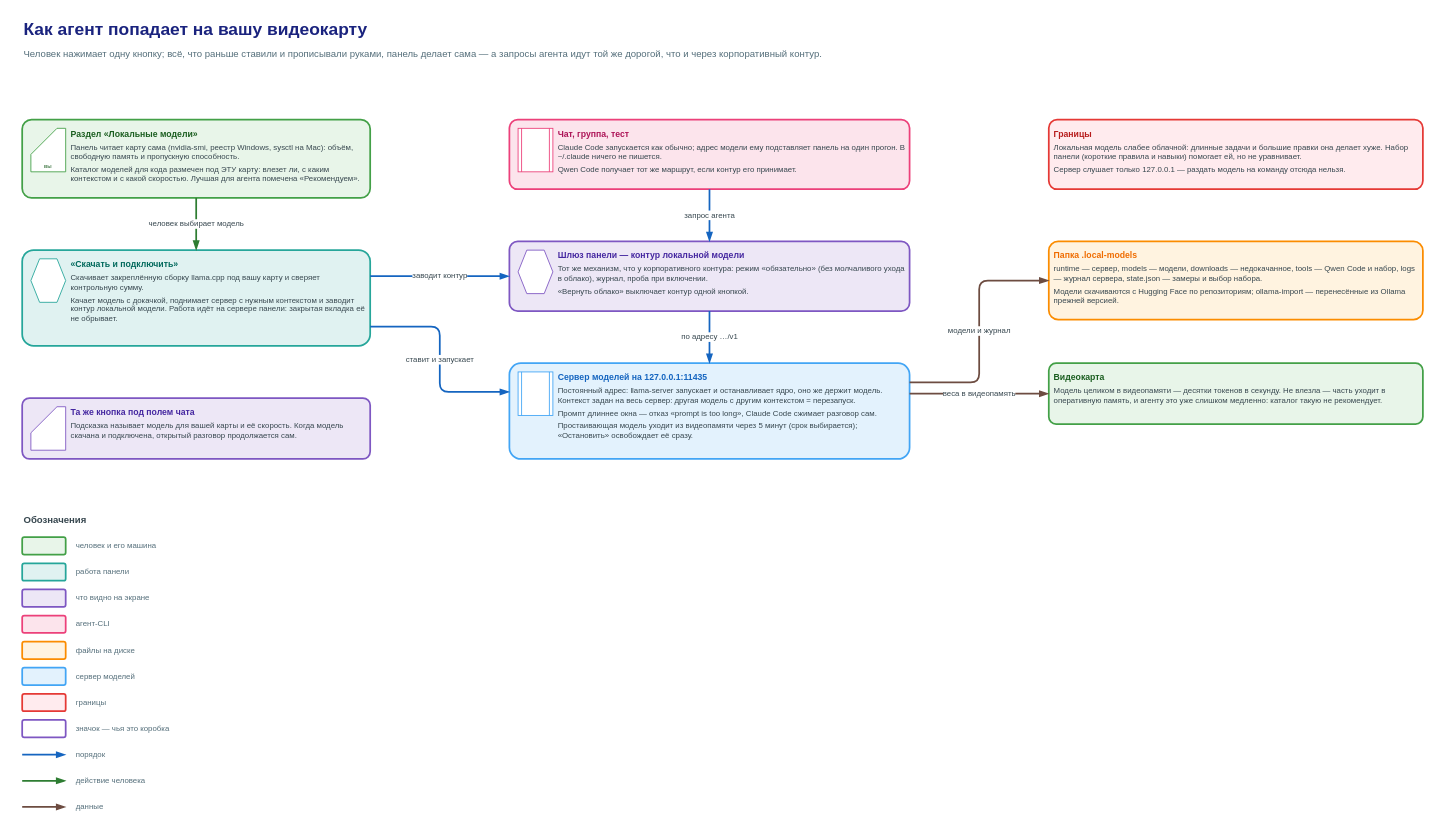
The diagram is 1438 pixels wide and 830 high, and some of its shapes have lost their labels. The shapes that lost their labels are listed below. From the top down, each one's centre as x and y in pixels, then its label:
At (535,149): "CLI".
At (48,280): "кнопка".
At (535,271): "шлюз".
At (535,393): "ядро".
At (48,428): "чат".
